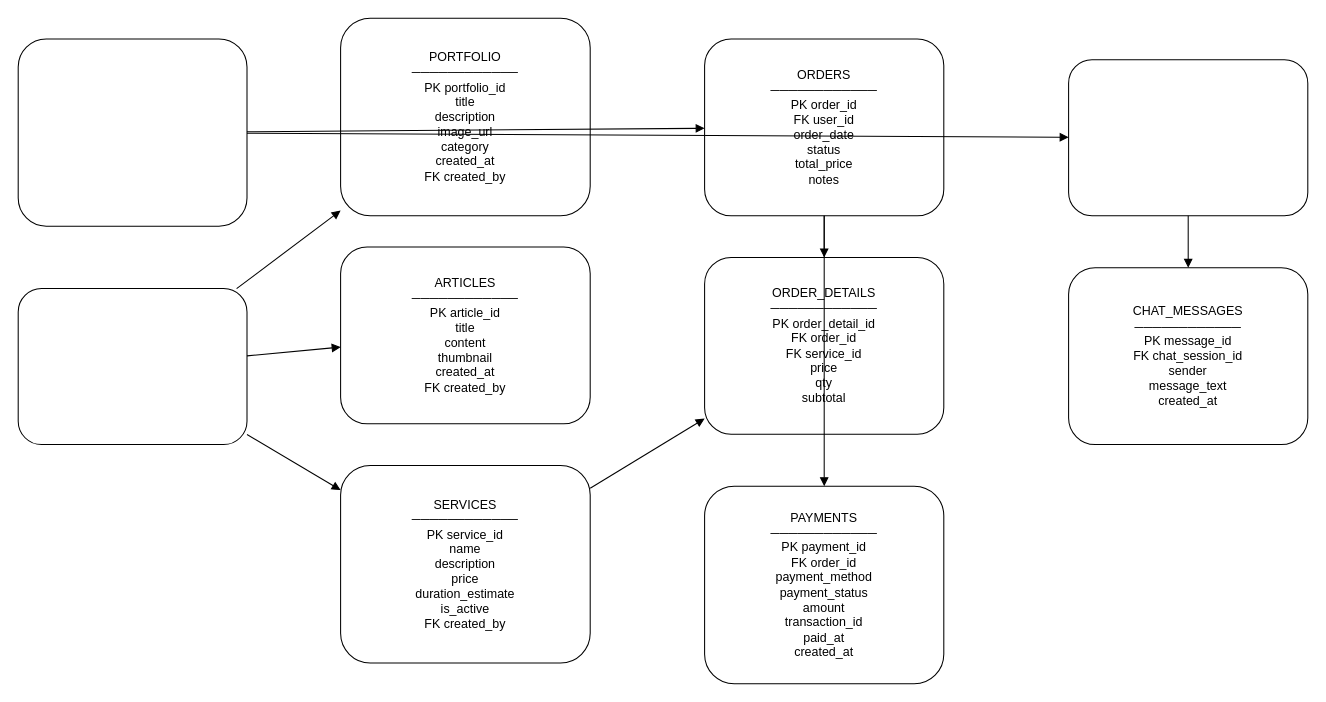
Some shapes in this 1326 by 702 pixel diagram are drawn without their labels. The shapes that lost their labels are listed below. From the top down, each one's centre as x and y in pixels, then its label:
At point 132,132: "USERS ──────────── PK user_id name email password phone role created_at".
At point 1188,137: "CHAT_SESSIONS ──────────── PK chat_session_id FK user_id started_at ended_at".
At point 132,366: "ADMINS ──────────── PK admin_id name email password created_at".
